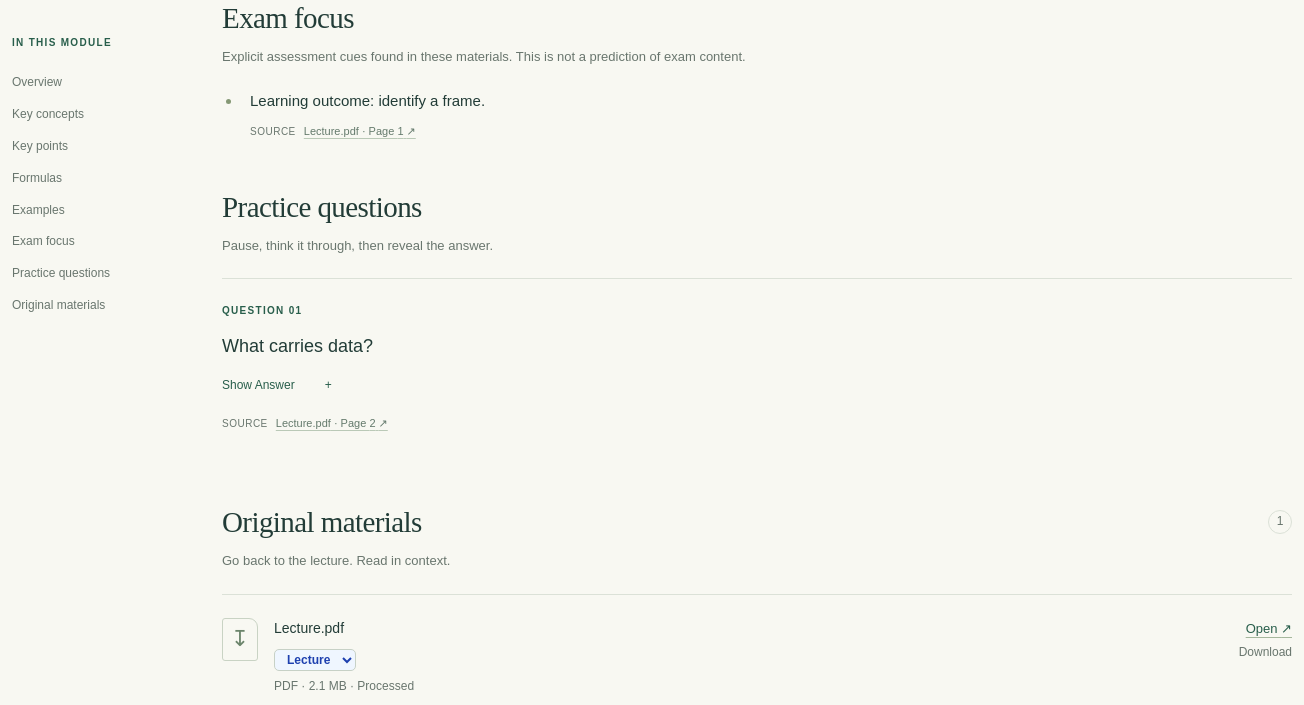
Test: learning content › shows and hides answers without any additional request
(page scrolled)
Expected: the text "A frame carries data." is not shown
Click the button "Show Answer +" at (277, 379), box x1=222 y1=362 x2=332 y2=396
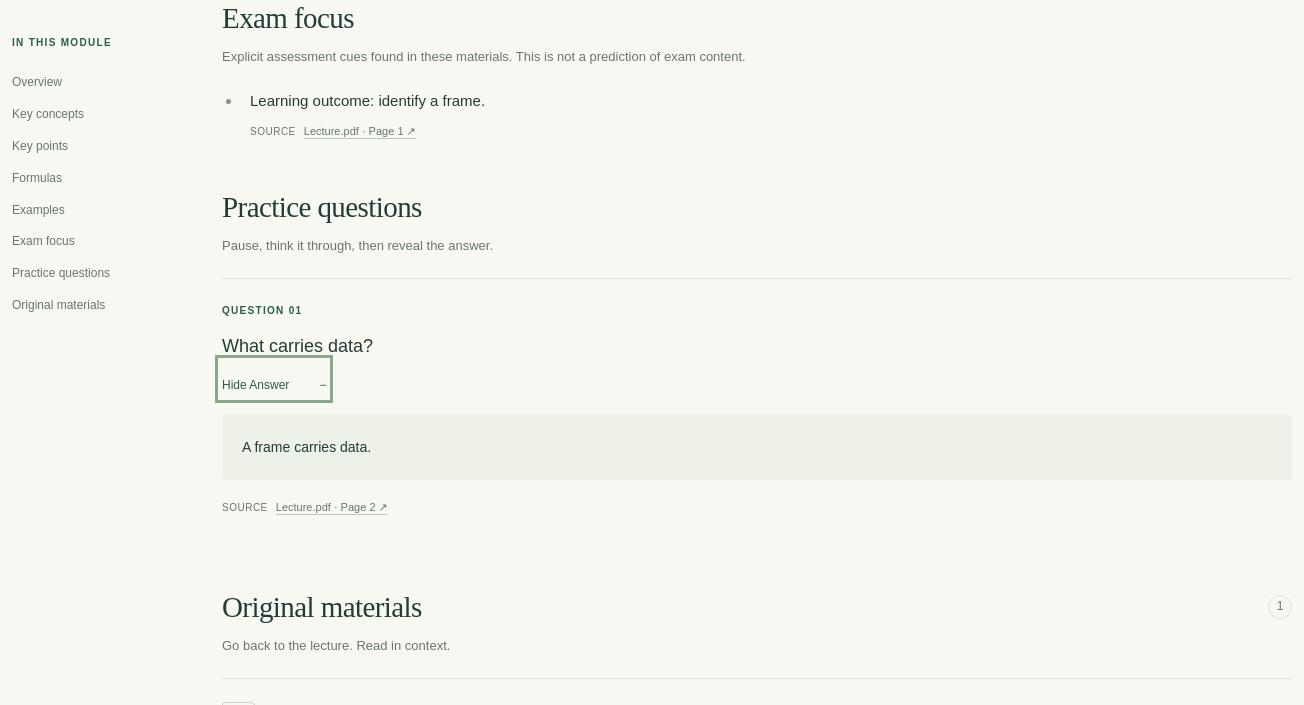
Expected: the text "A frame carries data." is shown, x1=222 y1=414 x2=1292 y2=480
Expected: the button "Hide Answer −" is expanded
Click the button "Hide Answer −" at (274, 379), box x1=222 y1=362 x2=326 y2=396
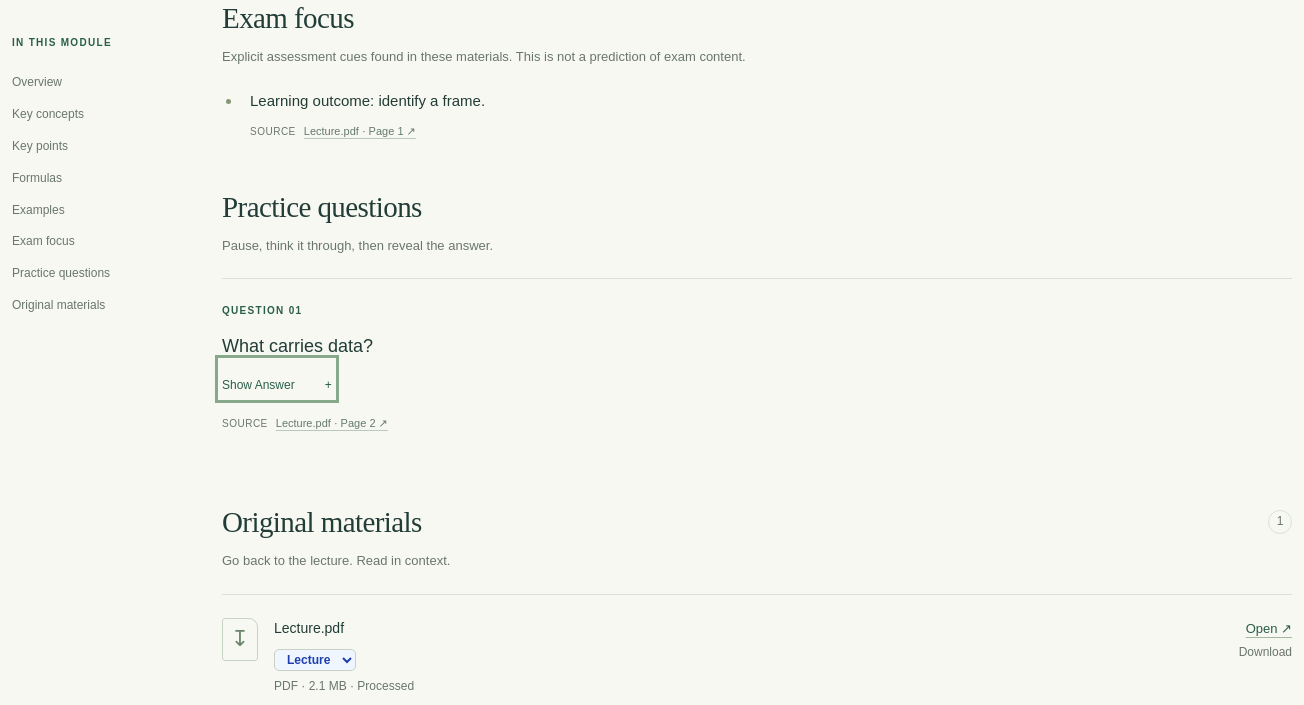
Expected: the text "A frame carries data." is gone
